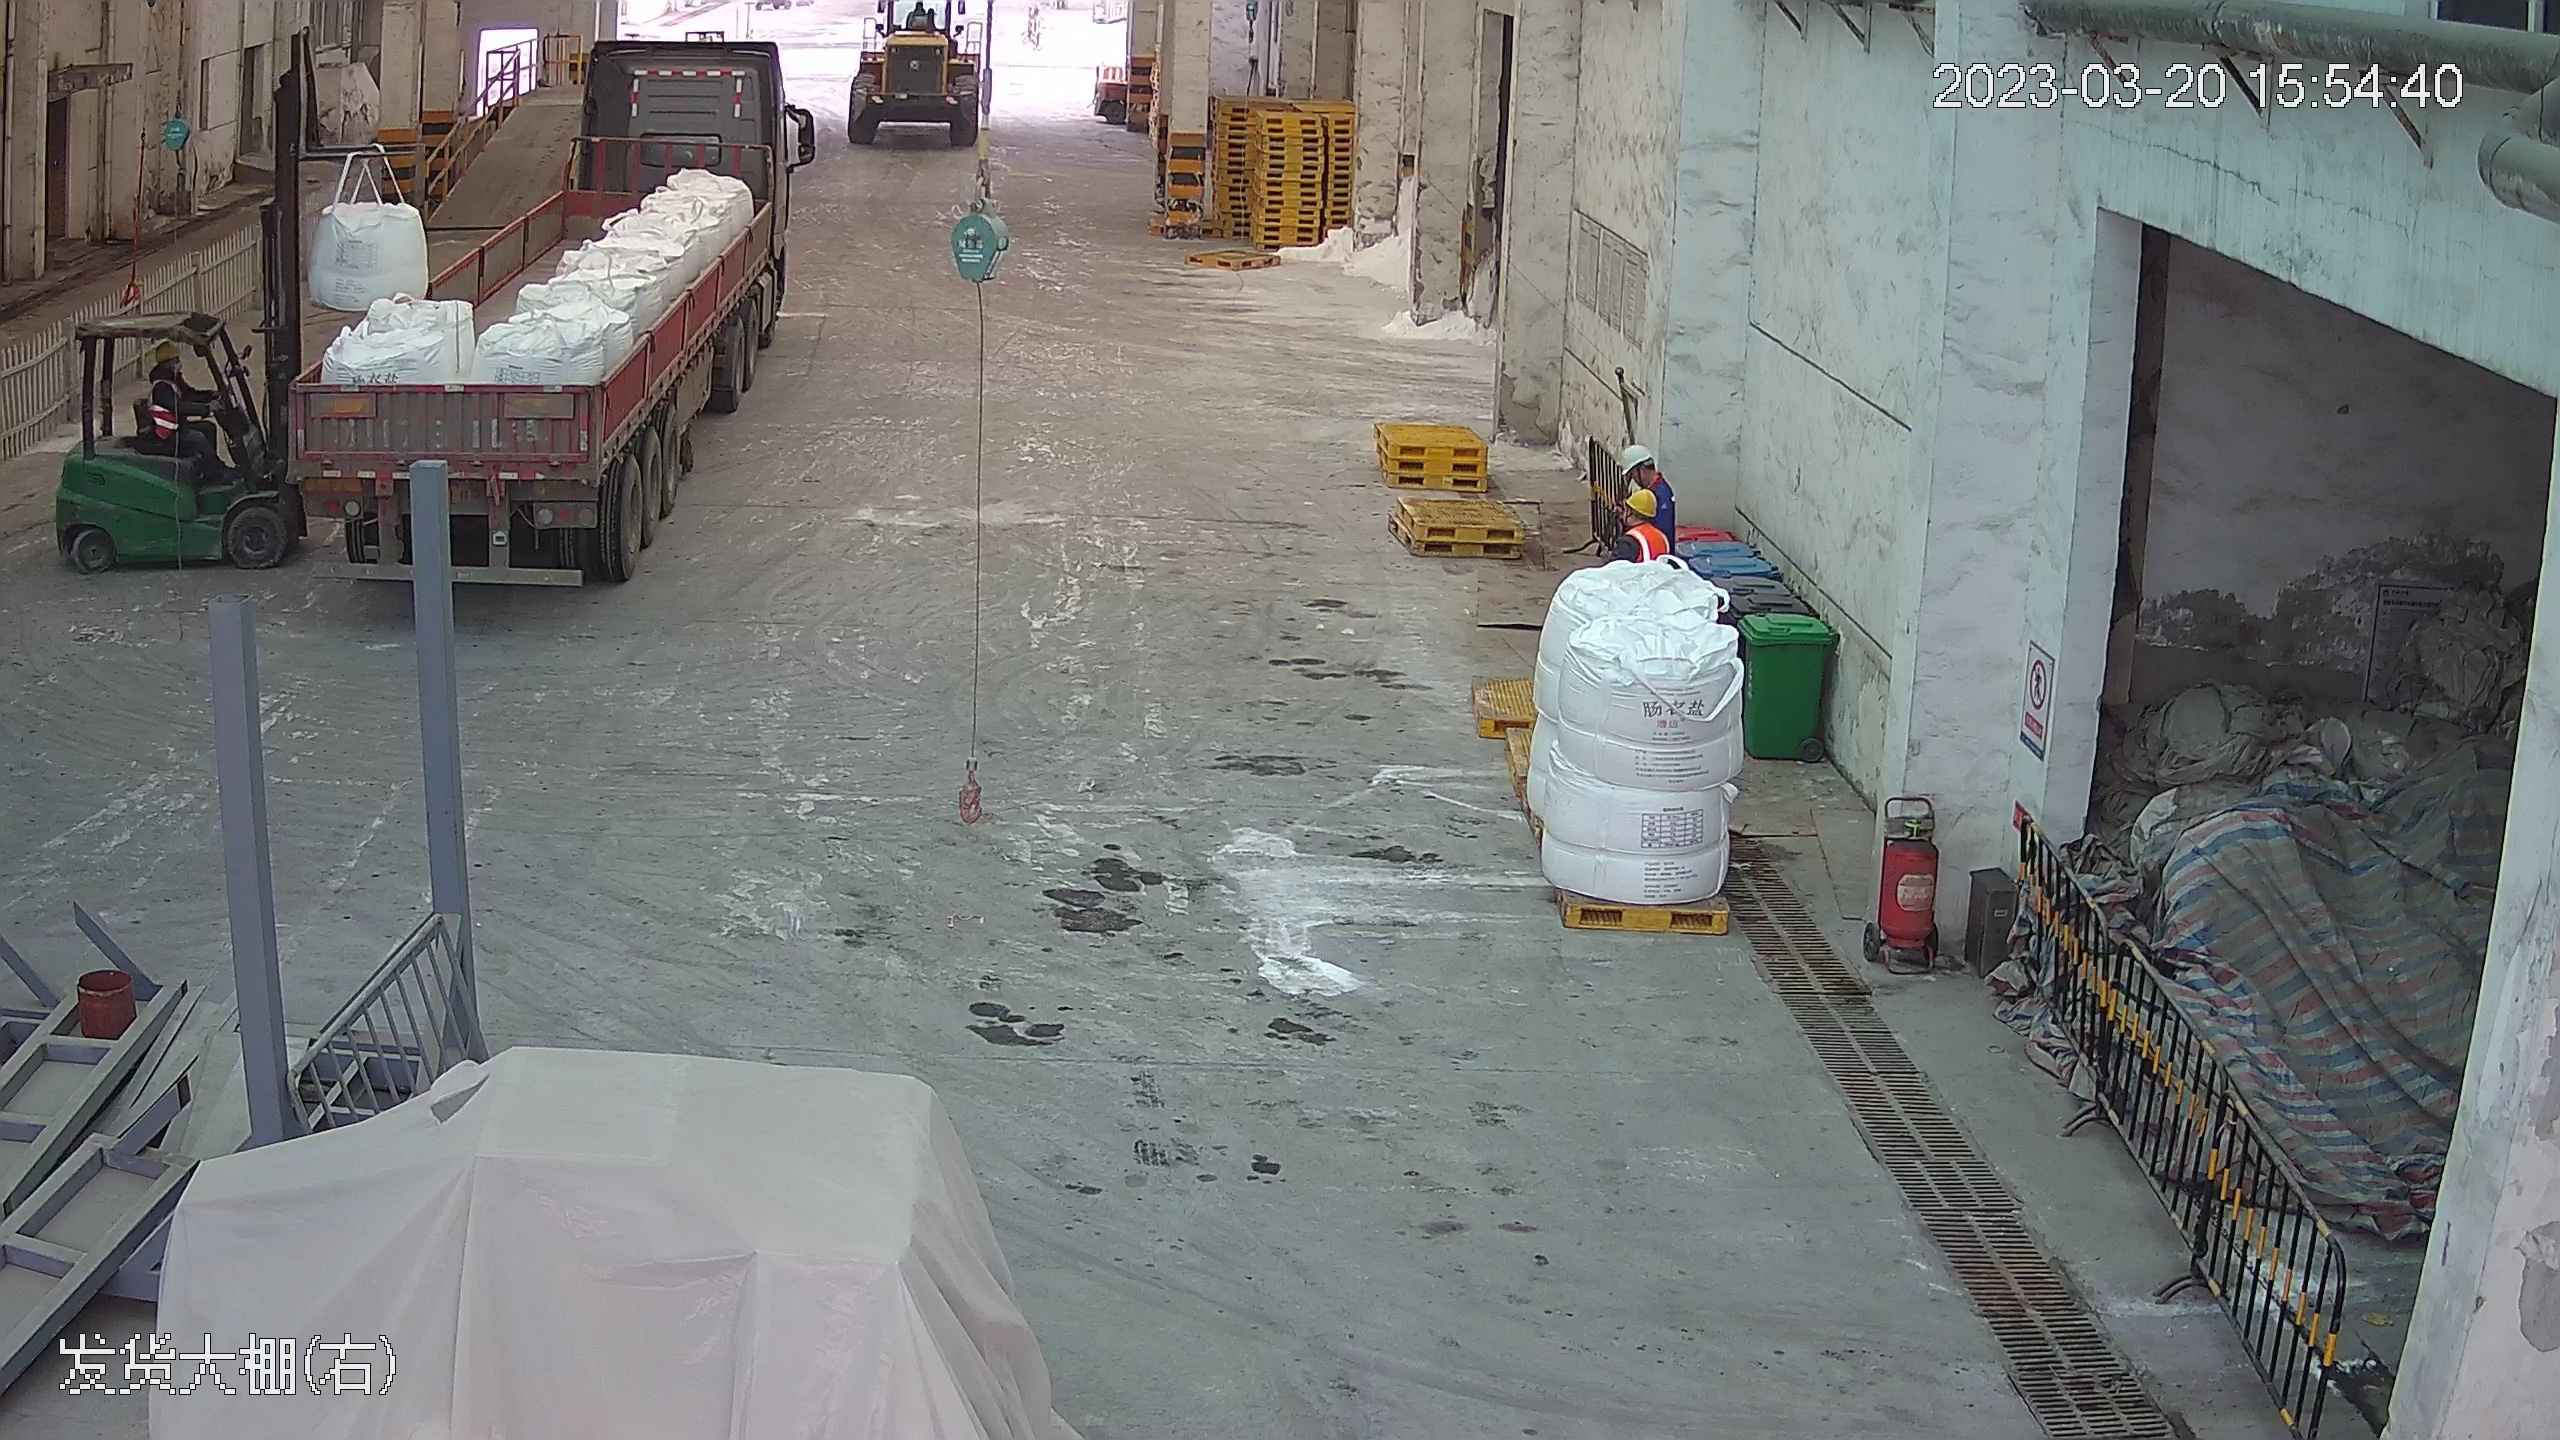head: (142, 336, 236, 481), (1610, 478, 1669, 555), (143, 337, 196, 402)
helmet: (145, 337, 195, 400), (1622, 477, 1662, 513), (1617, 442, 1654, 472), (151, 336, 185, 360)
people: (141, 338, 240, 483)
truck: (287, 9, 803, 587)
